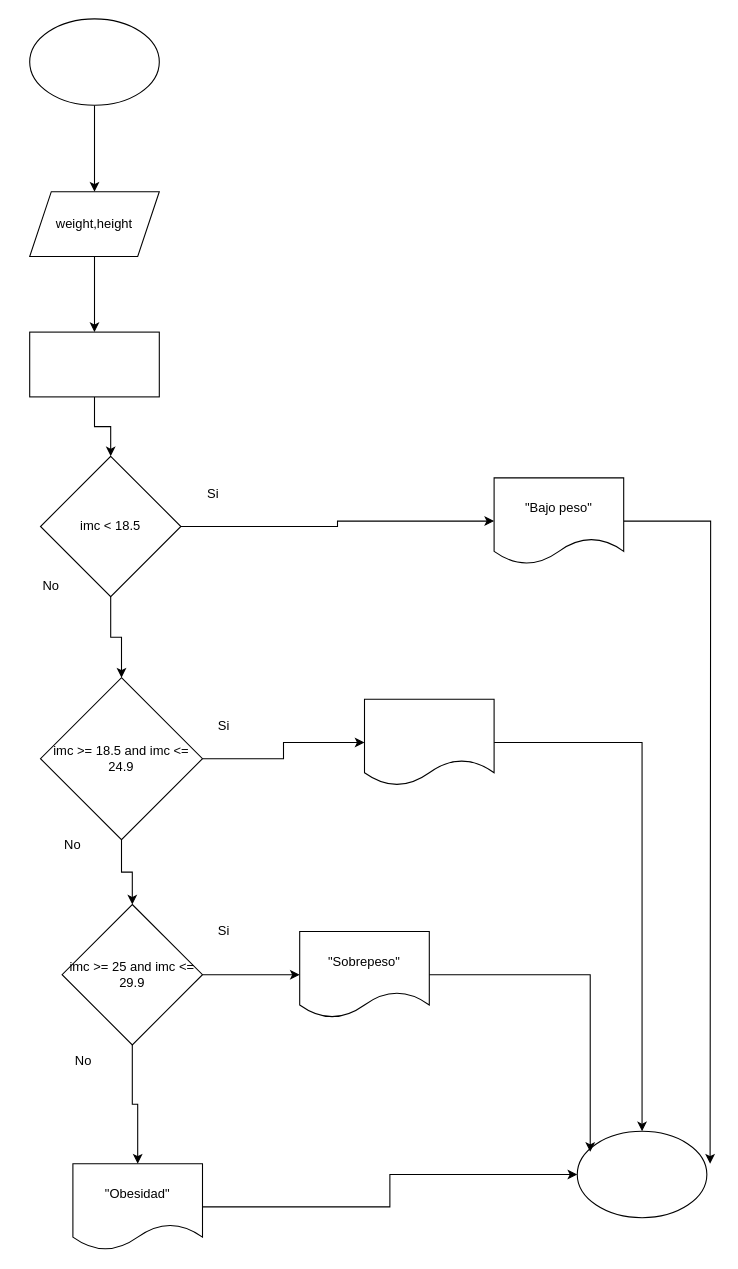
The diagram is 738 pixels wide and 1269 high, and some of its shapes have lost their labels. Here are the shapes that lost their labels. From the top down, the centre of each, then its label:
(94,61): Inicio
(94,364): imc = weight/(height)**2
(428,742): "Normal"
(641,1174): Fin
